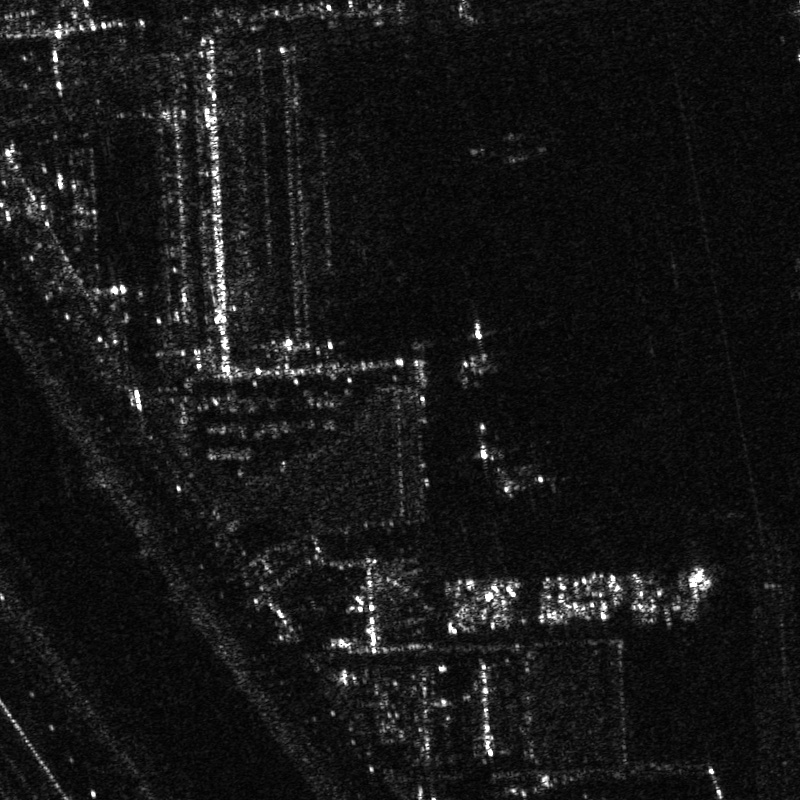A220: (450, 318, 502, 375), (461, 419, 507, 473)
other: (483, 469, 549, 503)
